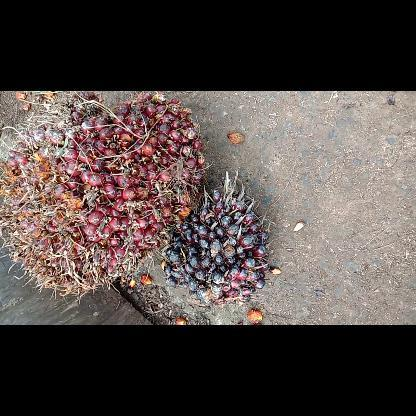TBS abnormal: (161, 169, 271, 306)
TBS masak: (0, 92, 209, 294)
